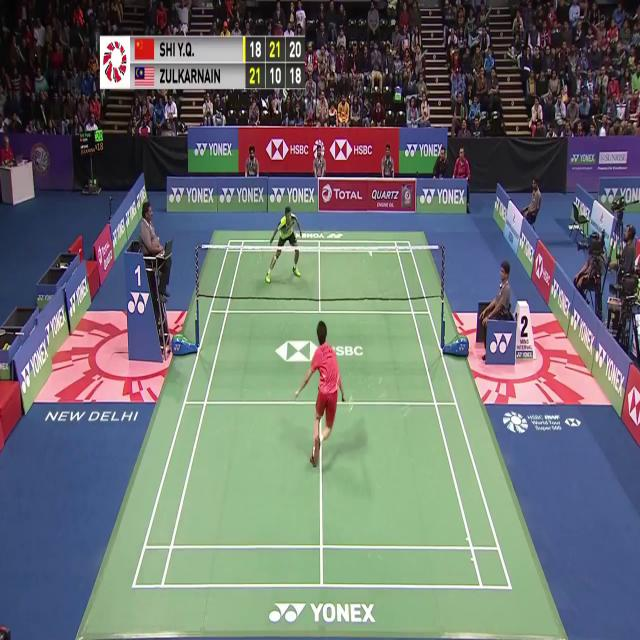Shuttlecock: (367, 249, 374, 261)
